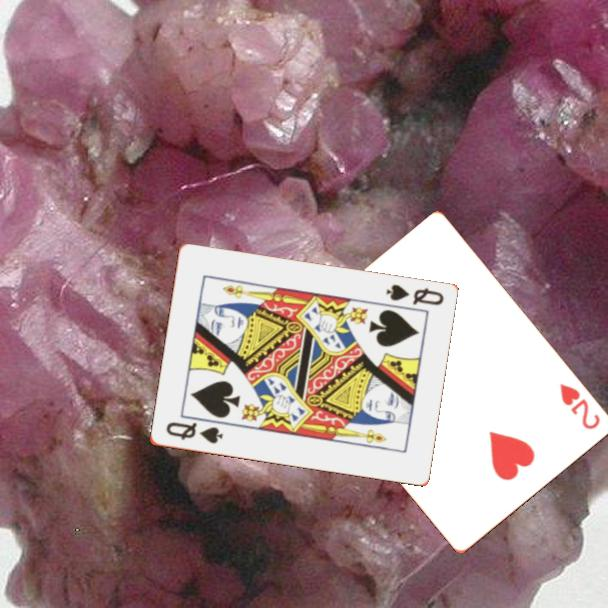h02: (557, 380, 603, 432)
s12: (382, 281, 446, 309), (162, 419, 225, 447)
